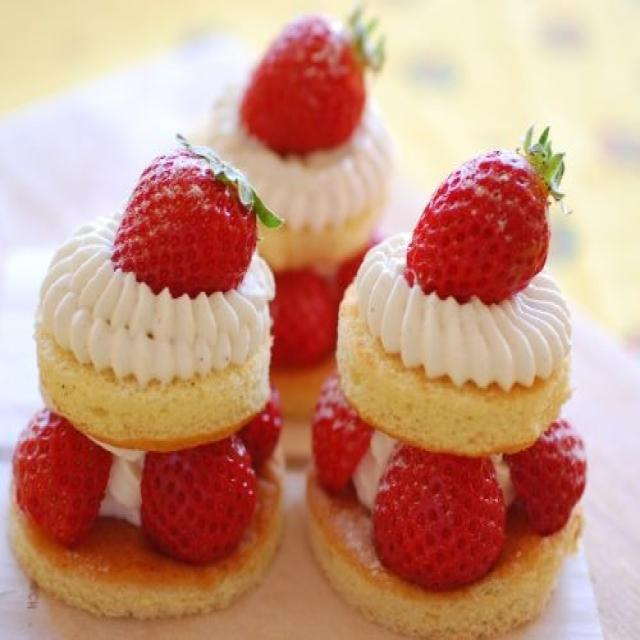蛋糕甜品: (26, 28, 617, 619)
